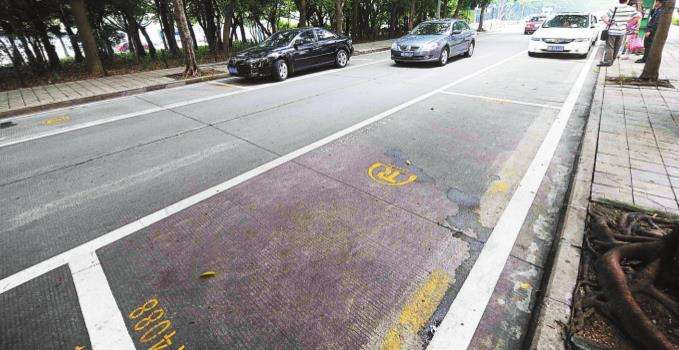slot_nocar: (35, 84, 575, 349), (1, 57, 253, 155), (436, 47, 597, 116)
